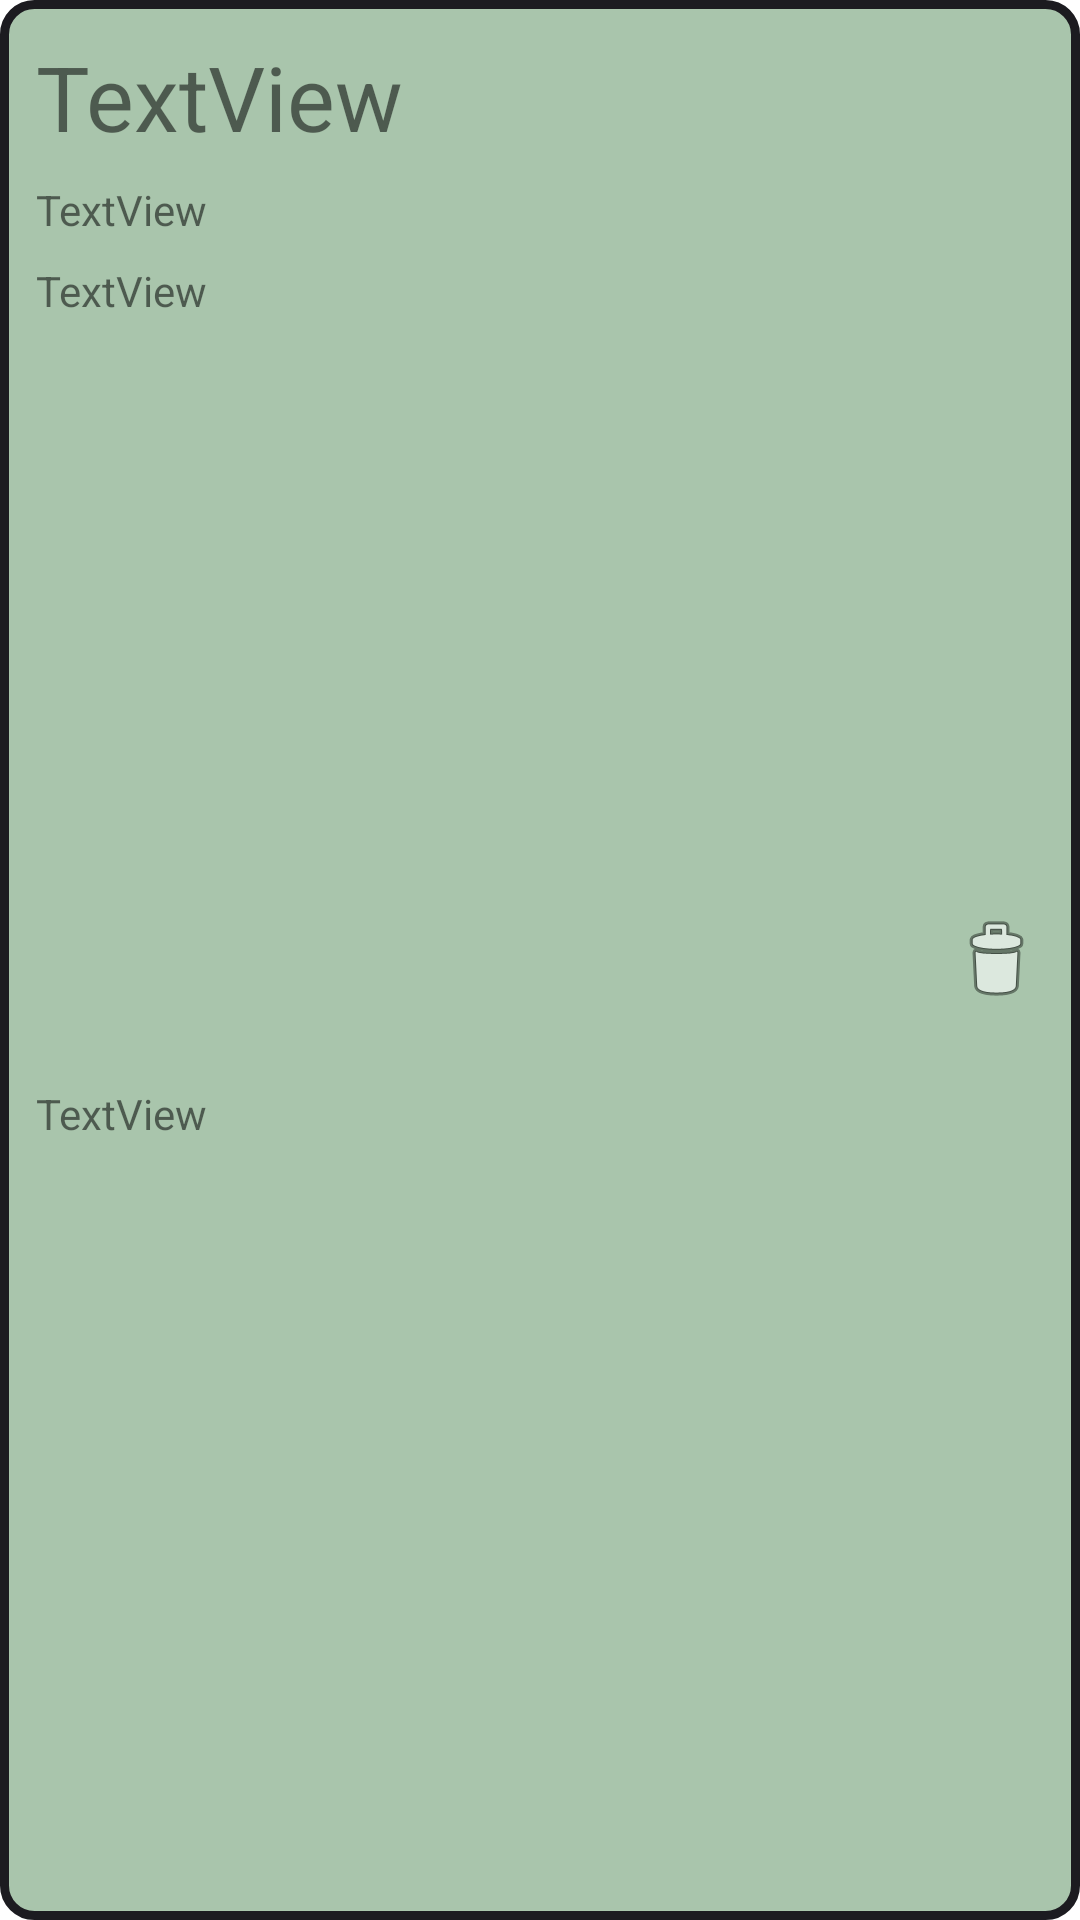

Where icons sit on this 1080px×1920px app screen, as (x1=x1, y1=y1, x2=x2, y2=y2):
delete: (x1=969, y1=921, x2=1024, y2=996)
